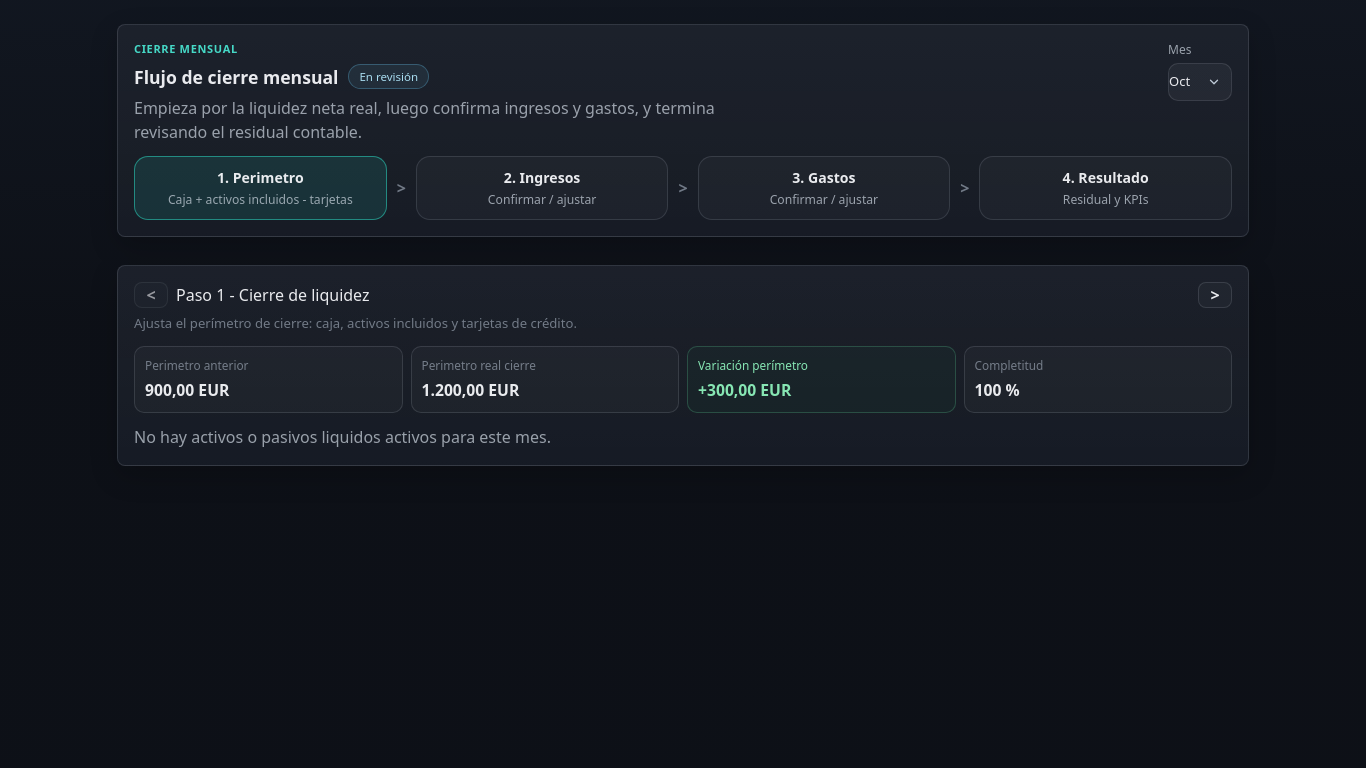
Test case: BudgetDashboardView › uses the previous monthly close liquidity as the monthly close starting balance
Step 1. Click the button with class "ui-monthly-close-step-chip" showing "4. Resultado Residual y KPIs" → click(1106, 188), box left=979, top=156, right=1232, bottom=220
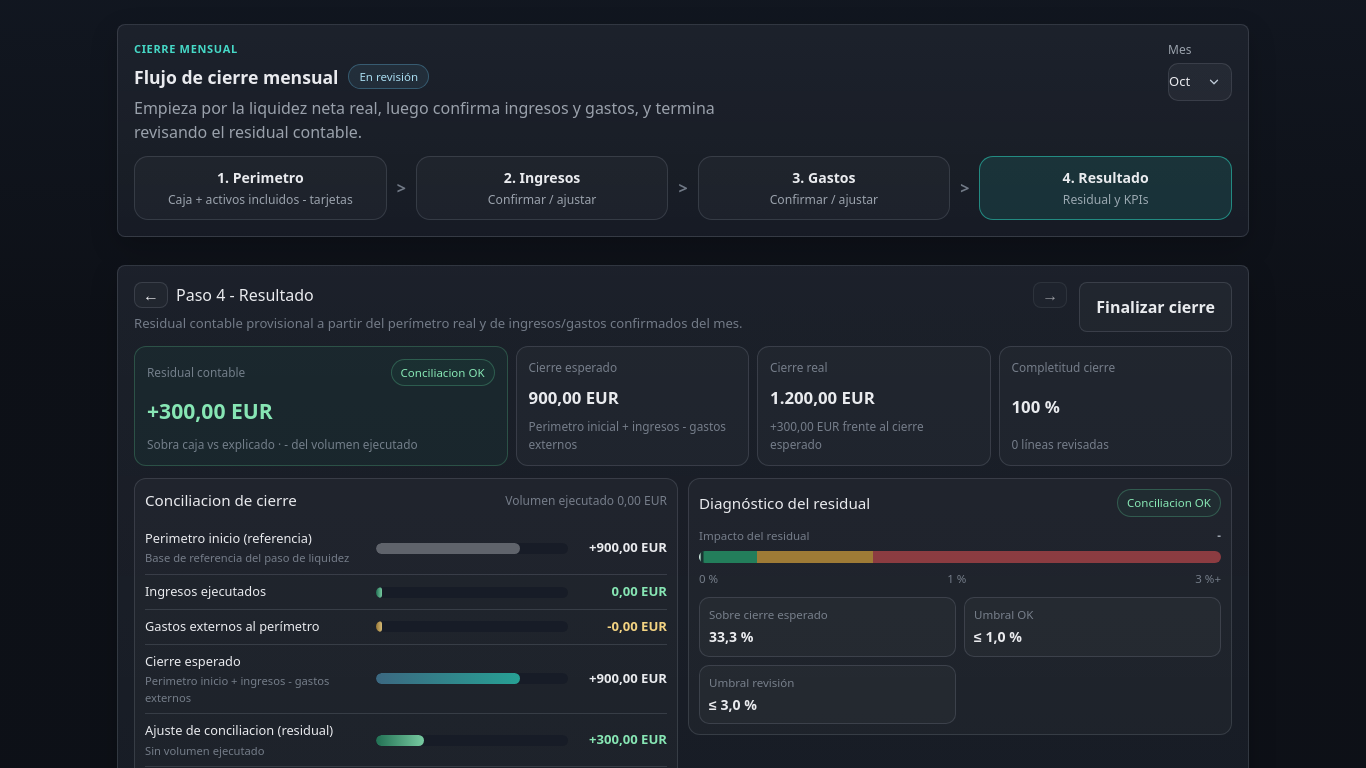
expect the text "Conciliacion de cierre" is shown: met, box left=145, top=489, right=297, bottom=512
expect the text "Diagnóstico del residual" is shown: met, box left=699, top=492, right=870, bottom=514
expect the element with class "ui-budget-result-diagnostic-scale" is shown: met, box left=699, top=527, right=1221, bottom=587
